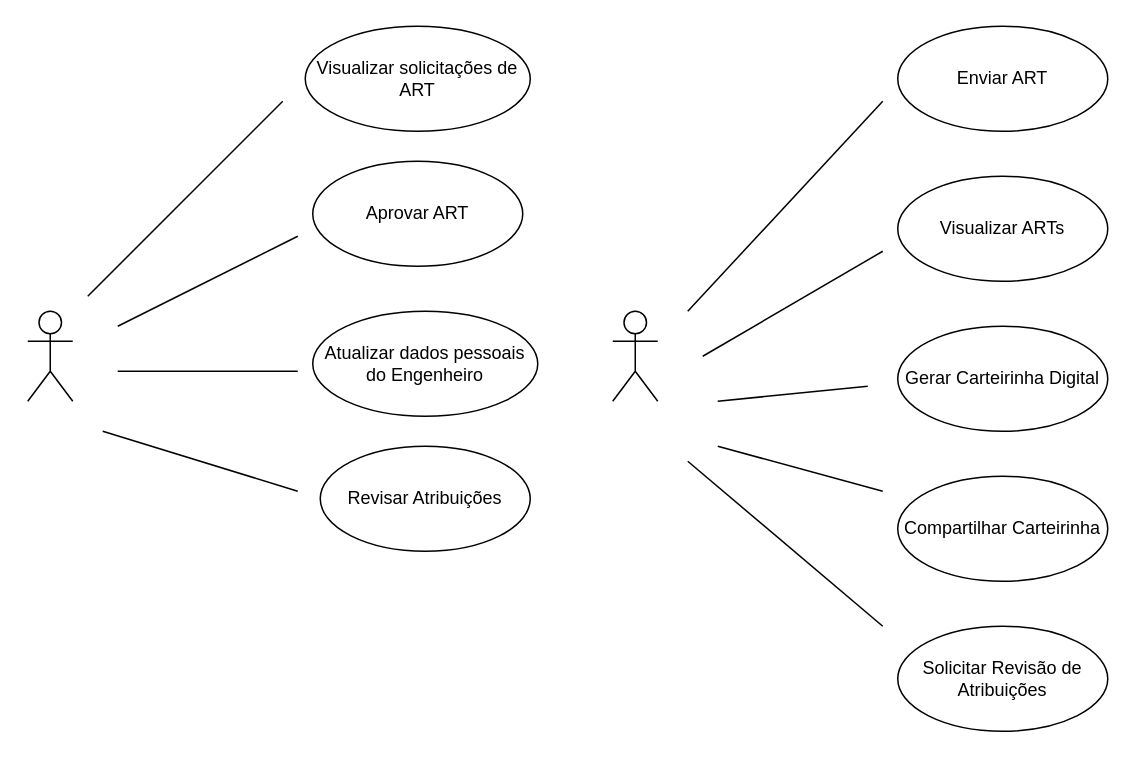
The diagram is 1134 pixels wide and 758 high, and some of its shapes have lost their labels. Each missing label, with the box of its shape:
CREA: (26, 310, 73, 401)
Engenheiro: (611, 310, 658, 401)
